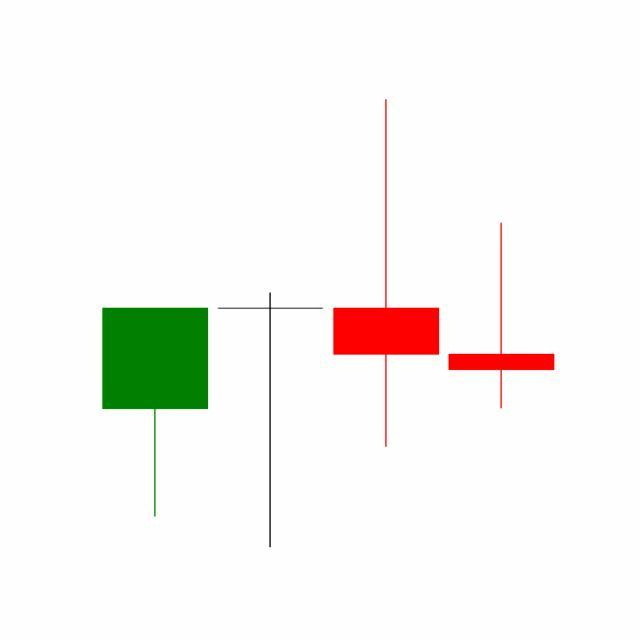Spinning Top: (329, 97, 445, 453)
